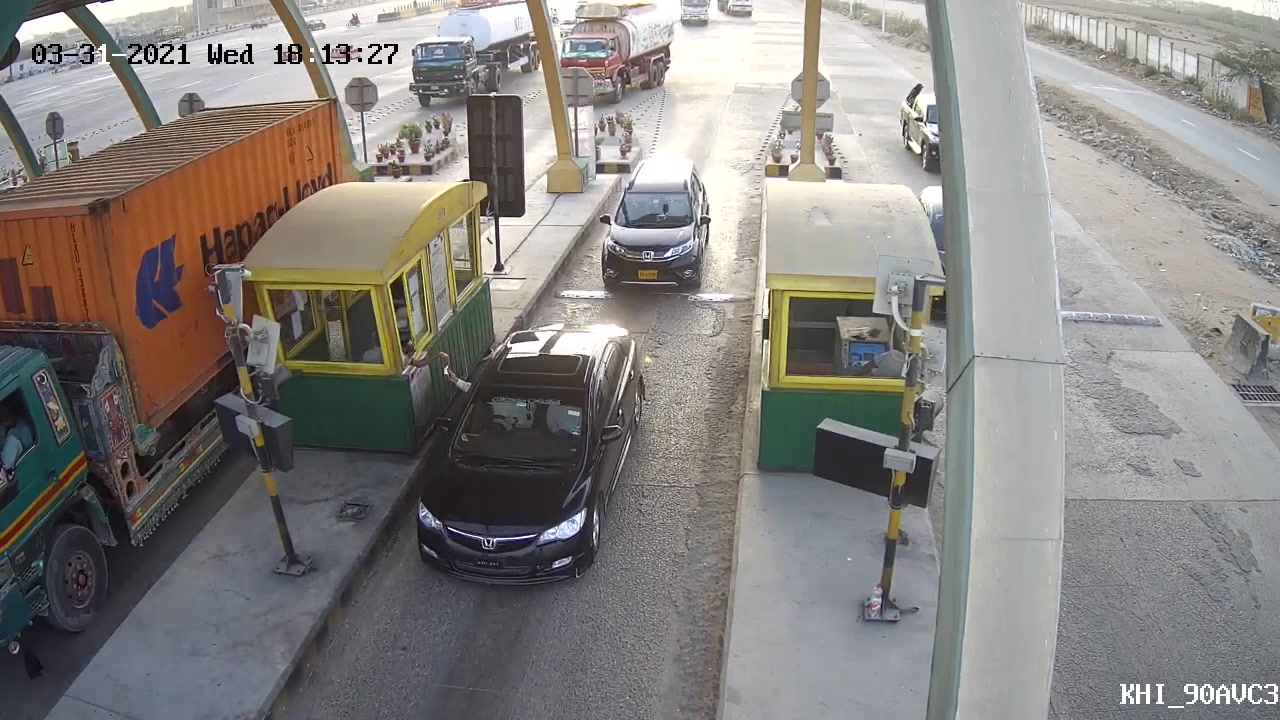F1: (406, 314, 660, 595), (593, 151, 715, 300)
